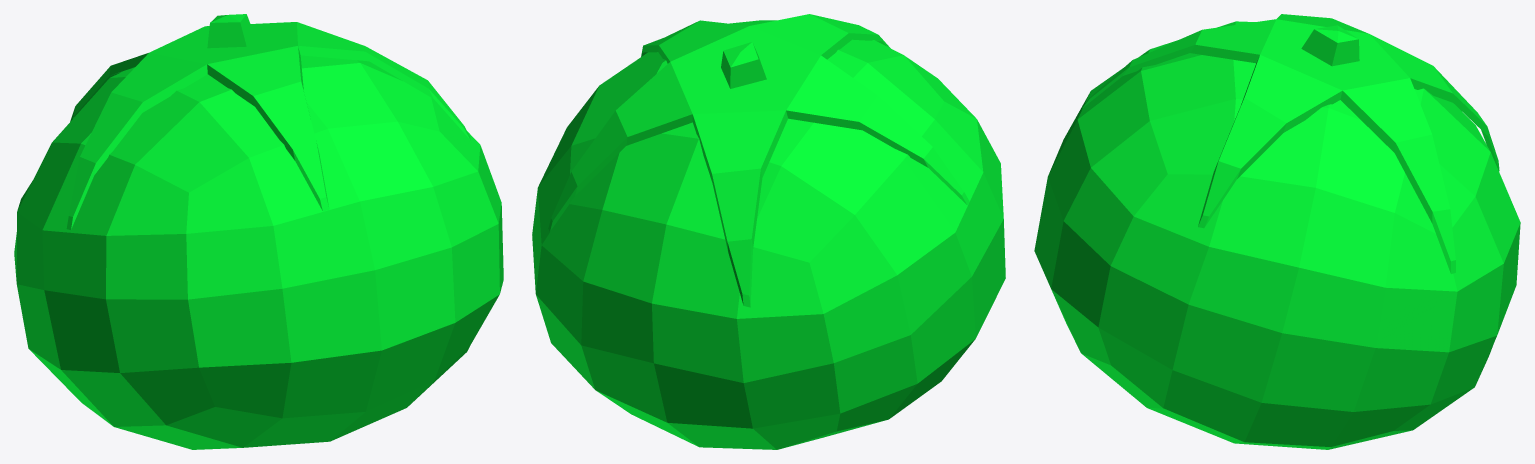
The model's file is Tomato 1.fbx.
3 views of the same model, side by side, from view 1: azimuth 30°, elevation 25°; view 2: azimuth 150°, elevation 25°; view 3: azimuth 270°, elevation 25° (orthographic). The views are drawn at different scales.
Visible parts, largest first — view 1: Tomato 1; view 2: Tomato 1; view 3: Tomato 1.
Part boxes in pixels (bbox=[...]): Tomato 1: bbox=[14, 14, 503, 449]; Tomato 1: bbox=[532, 14, 1005, 449]; Tomato 1: bbox=[1034, 14, 1520, 449].
Size of the model in its own units: 5.58 by 5.02 by 5.61.
